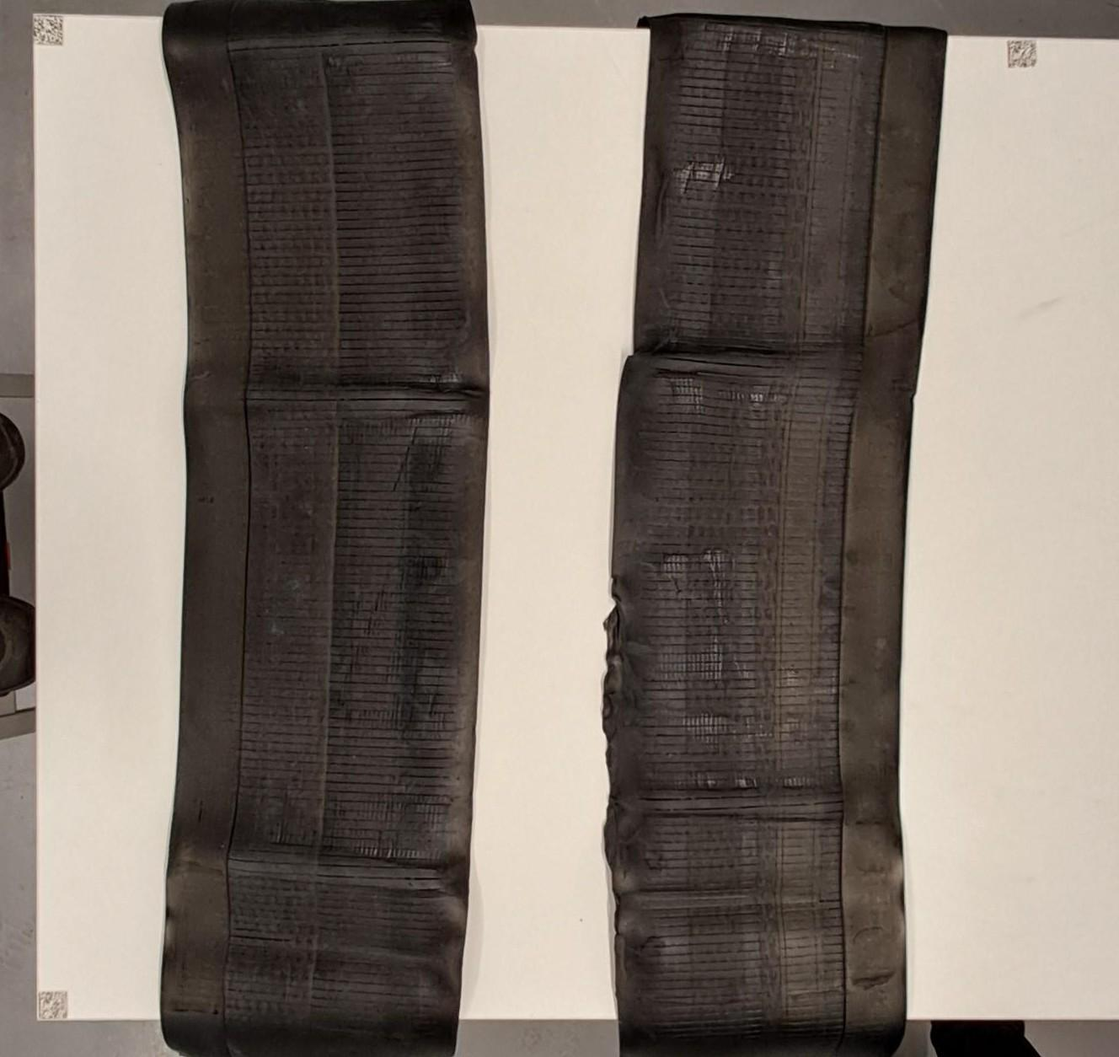qr_code: (34, 14, 62, 46), (1008, 40, 1035, 68), (40, 990, 67, 1018)
